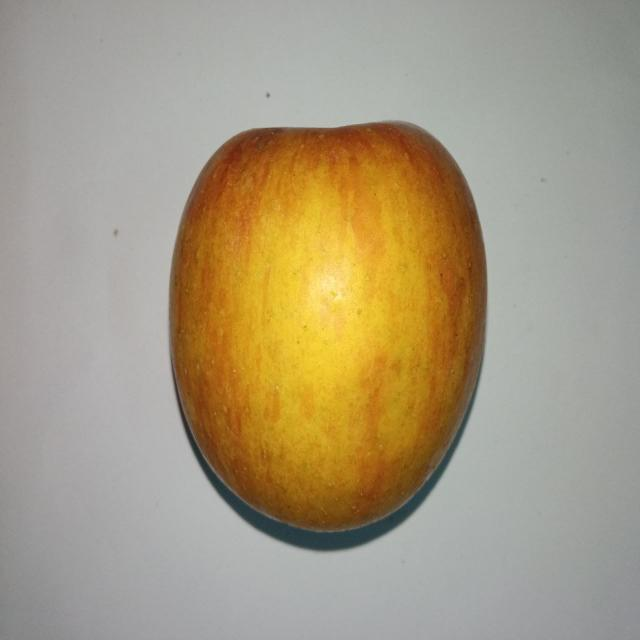fresh_apple: (168, 120, 486, 534)
